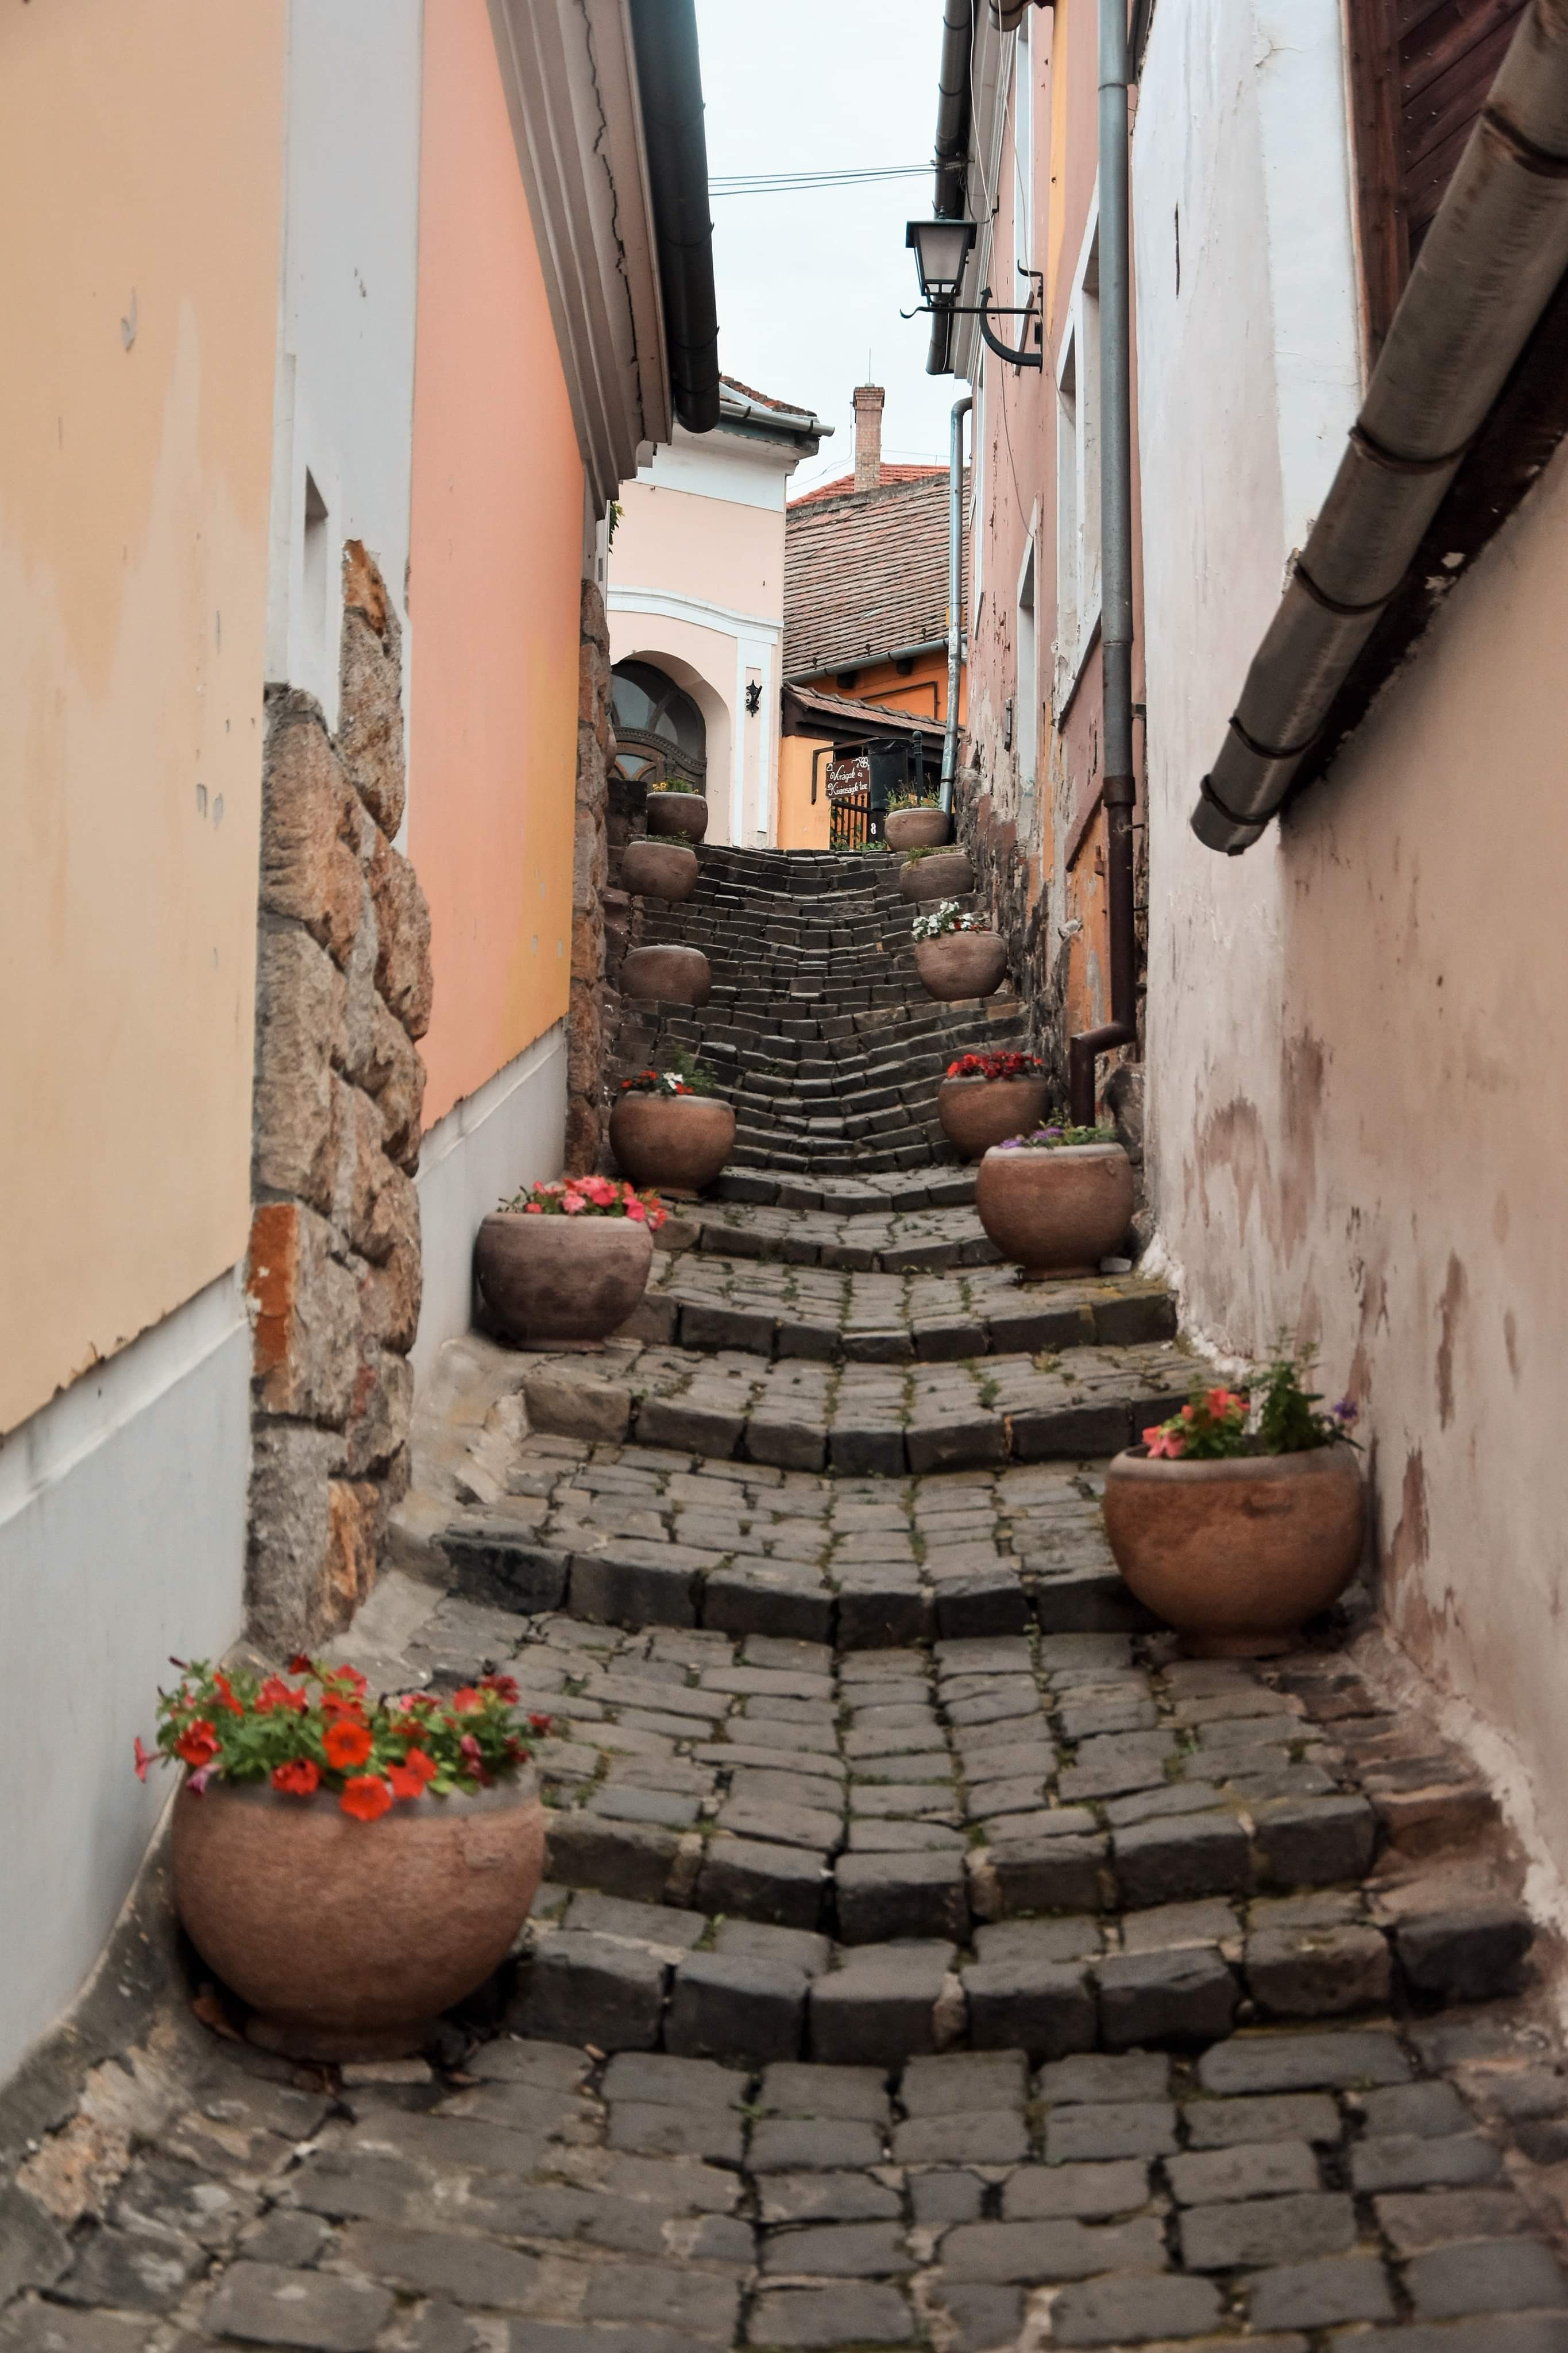upstairs: (560, 1489, 1074, 2129)
